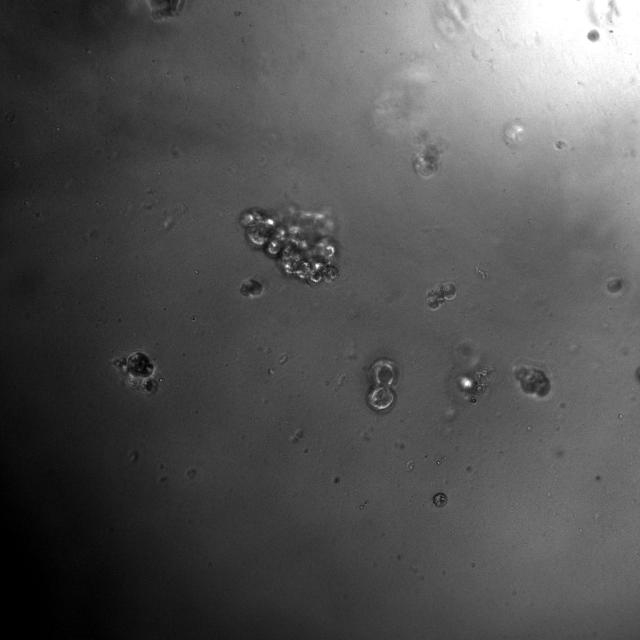organoid: (239, 207, 338, 284), (110, 351, 159, 394), (366, 359, 398, 411), (513, 364, 551, 398), (427, 282, 456, 309), (239, 277, 264, 299), (607, 277, 624, 294), (432, 492, 447, 507)
